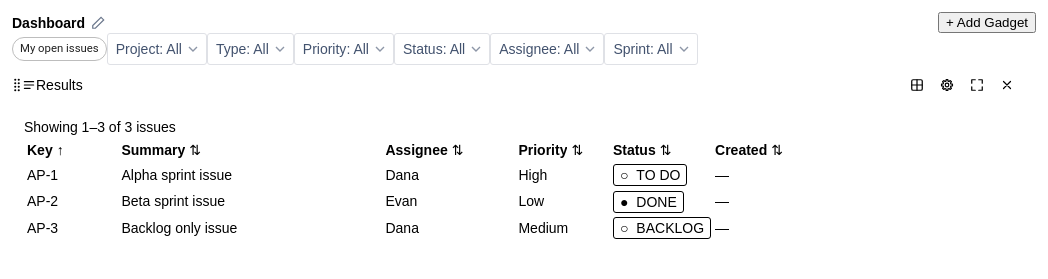
Test: JL-366 — Sprint filter options come from sprintId + SprintContext › lists the real sprint names for the sprints referenced by issues
Check: the text "Showing 1–3 of 3 issues" is shown, box [24,119,176,135]
Click the button "Sprint: All" at point(651, 49), box [604,33,698,65]
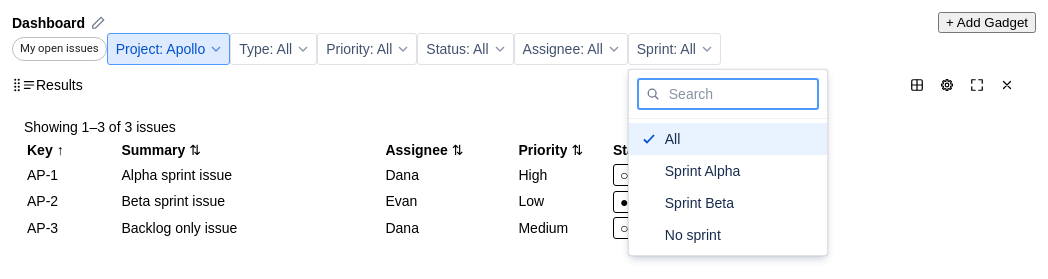
Check: the text "Type: All" is shown, box [239,39,292,59]
Check: the text "Sprint Alpha" is shown, box [665,161,740,181]
Check: the text "Sprint Beta" is shown, box [665,193,734,213]
